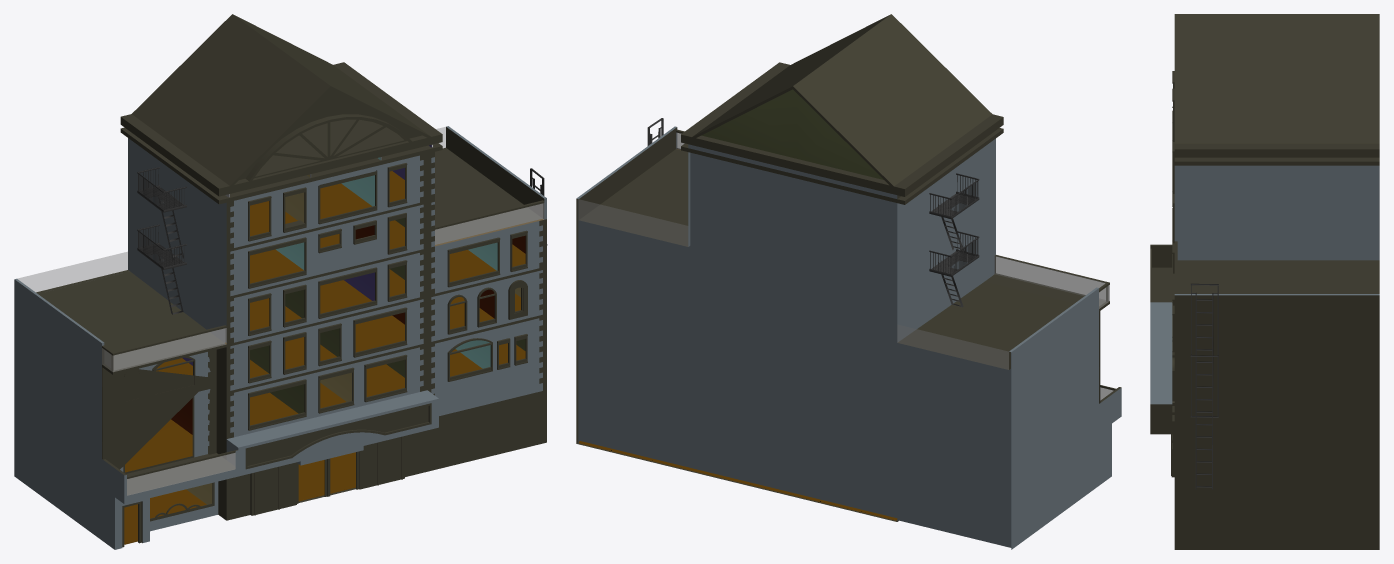
Rendered from building3.fbx.
3 renders of one model, left to right at view 1: azimuth 30°, elevation 25°; view 2: azimuth 150°, elevation 25°; view 3: azimuth 270°, elevation 25°, orthographic. The views are drawn at different scales.
Visible parts, largest first — view 1: pCube64; view 2: pCube64; view 3: pCube64.
Part boxes in pixels (<box>): pCube64: <box>14,14,547,549</box>; pCube64: <box>576,14,1121,549</box>; pCube64: <box>1150,14,1379,549</box>.
Size of the model in its own units: 611 by 539 by 262.
